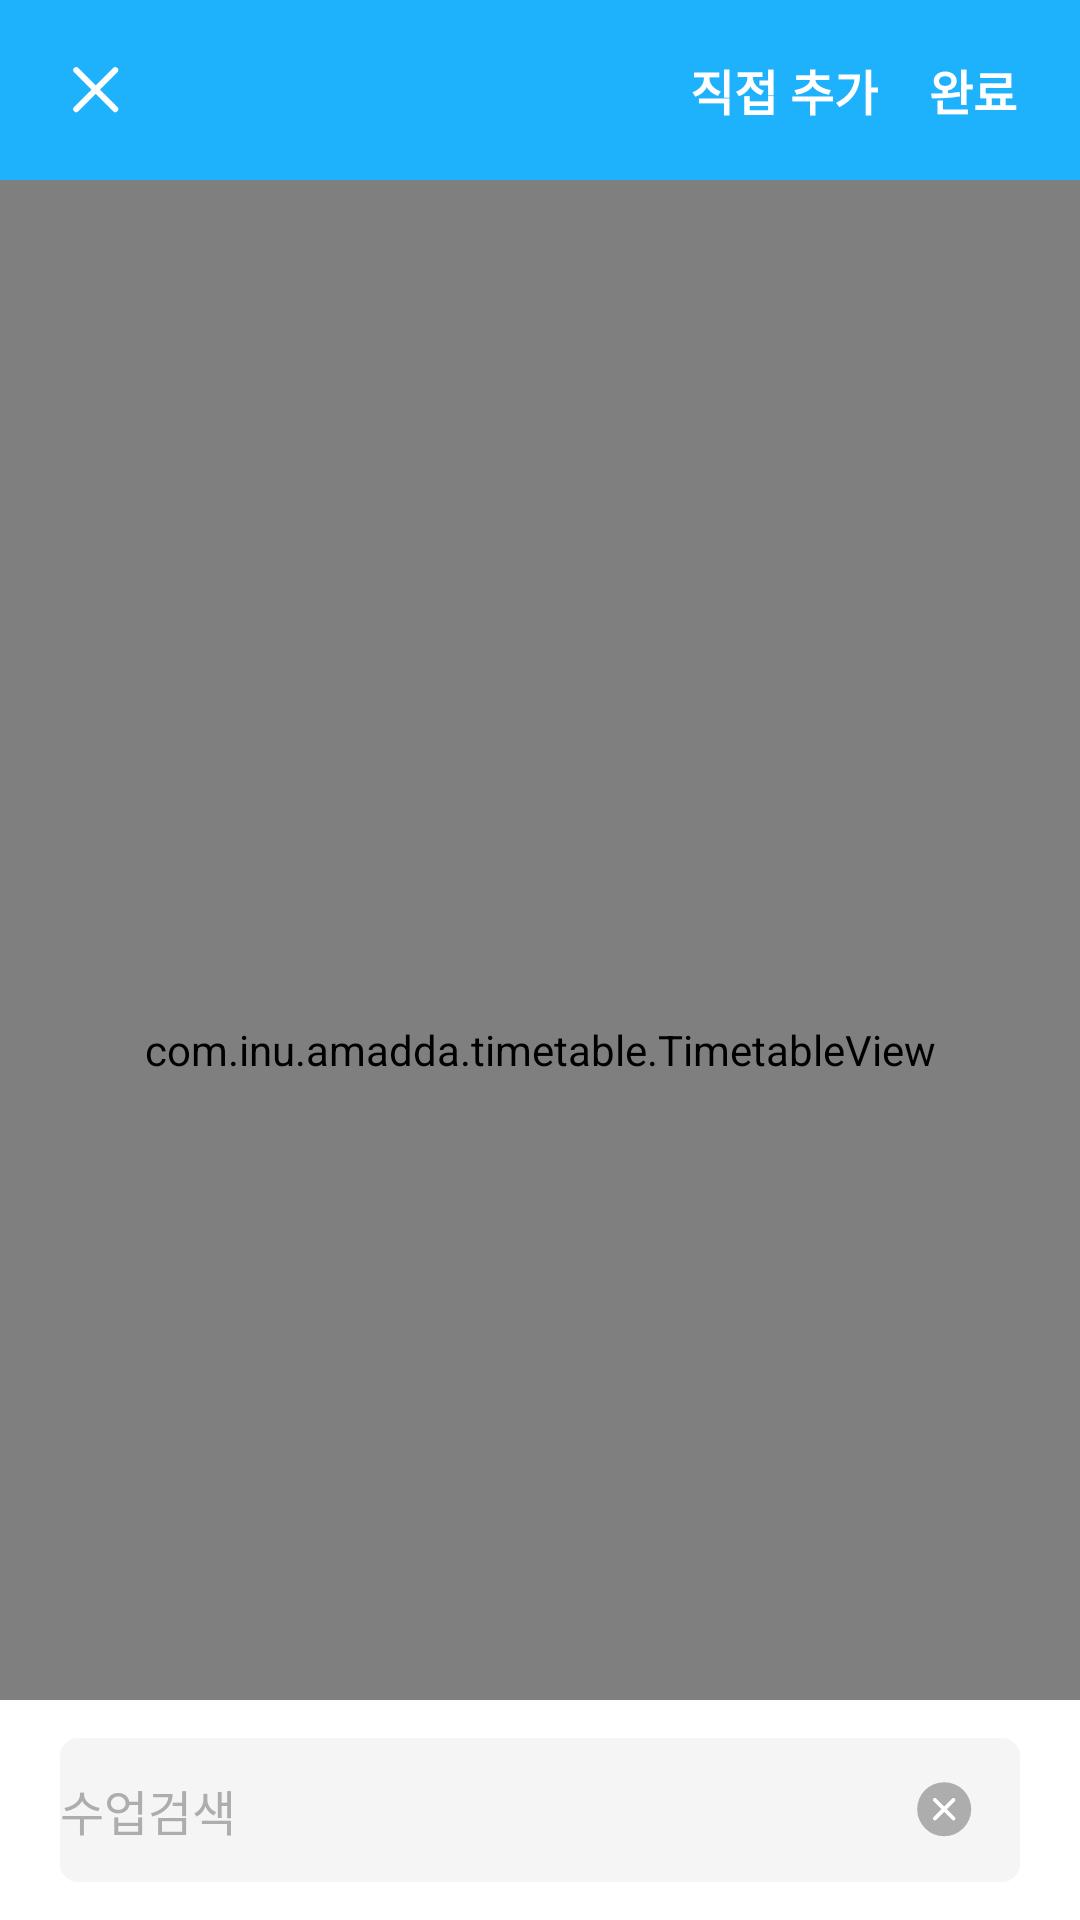

Locate icon controls on the screen. Image size 1080 × 1920, boxes as (x1, y1, x2, y2).
cancel: (73, 67, 119, 113)
erase: (917, 1782, 971, 1836)
